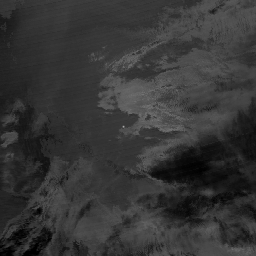Target: (120, 124, 127, 129)
